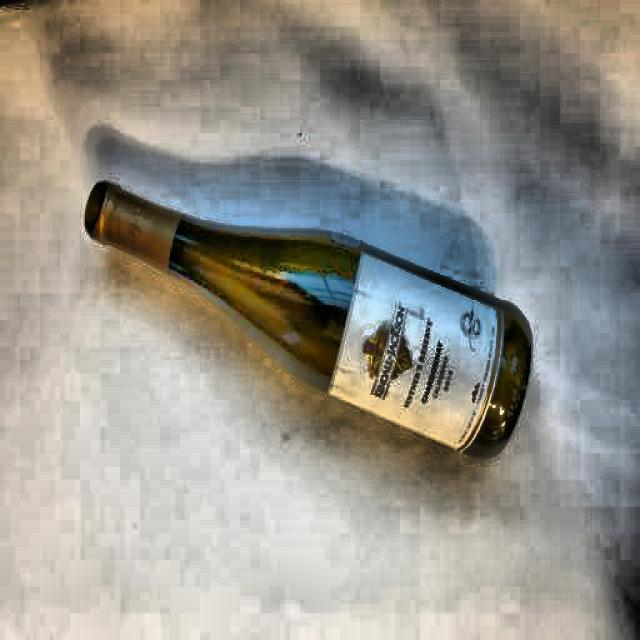glass: (78, 167, 541, 478)
